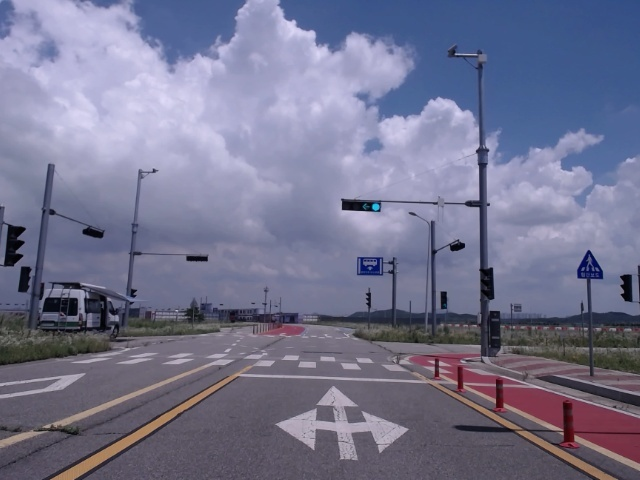all_green_4: (344, 198, 381, 211)
